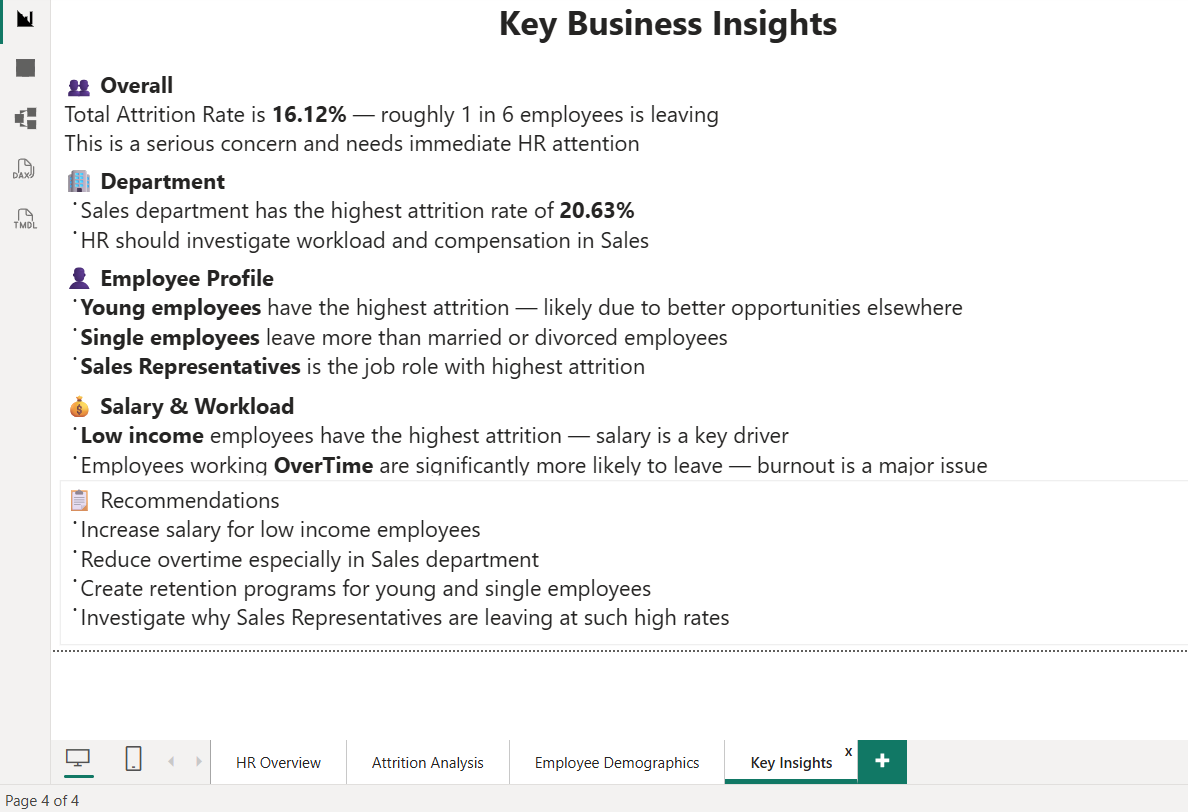

Layout of this report page (visuals, bound fields, positions):
{"tool":"powerbi","page":{"name":"Key Insights","canvas":[1280,720],"ordinal":3},"visuals":[{"type":"textbox","box":[9.6,0,1270.7,105.7],"z":0},{"type":"textbox","box":[9.6,78.2,1270.7,150.9],"z":1000},{"type":"textbox","box":[9.6,183.9,1270.7,107],"z":2000},{"type":"textbox","box":[9.6,290.9,1270.7,140],"z":3000},{"type":"textbox","box":[9.6,430.9,1270.7,102.9],"z":4000},{"type":"textbox","box":[9.6,533.8,1270.7,181.1],"z":5000}]}

Visuals, with their boxes on the page's 1280x720 design canvas (x1, y1, x2, y2). These are canvas units, not pixel positions in the 1188x812 screenshot, which may show the page scaled, cropped or inside an application window:
textbox: 10/0/1280/106
textbox: 10/78/1280/229
textbox: 10/184/1280/291
textbox: 10/291/1280/431
textbox: 10/431/1280/534
textbox: 10/534/1280/715
